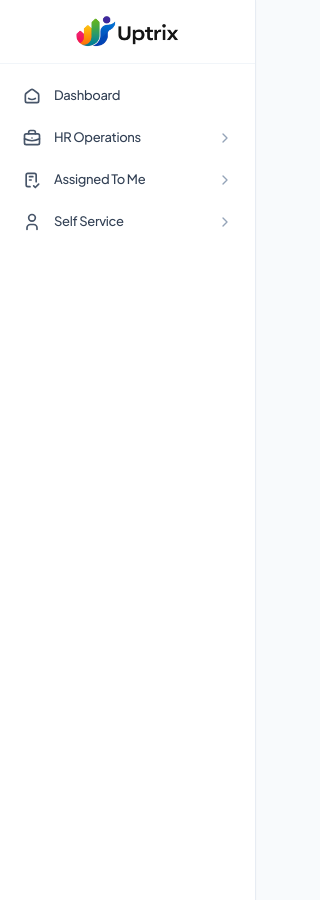
Frontend UI Tests: Sidebar and LockedFeatureModal › 5. HR role sees Self Dashboard and does NOT see Company Dashboard
Check: the text "Dashboard" is shown once, box x1=54 y1=86 x2=120 y2=106
Verify HR can expand HR Operations and see Activity Logs
Click the button "HR Operations". click: {"x": 128, "y": 138}
box: x1=10 y1=118 x2=245 y2=158
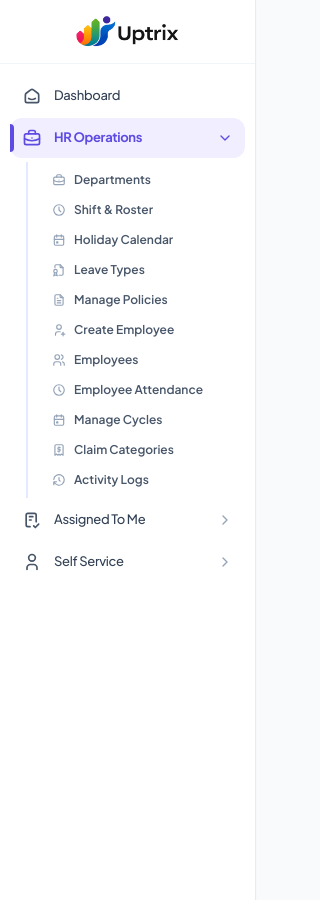
Check: the text "Activity Logs" is shown, box x1=74 y1=472 x2=149 y2=488
